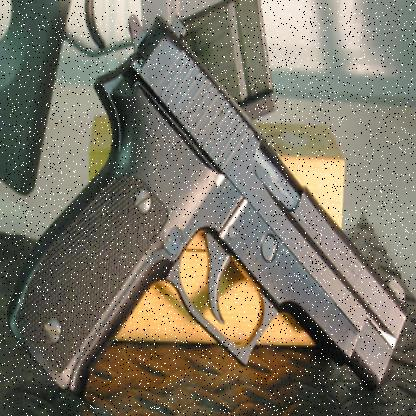pistol: (7, 17, 408, 393)
